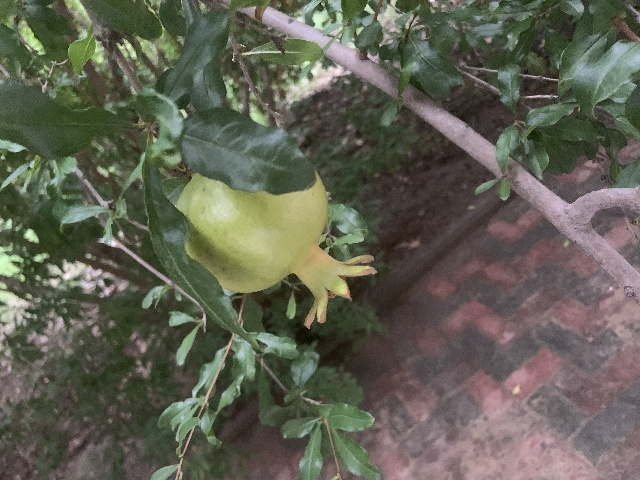mid-growth: (176, 168, 378, 329)
